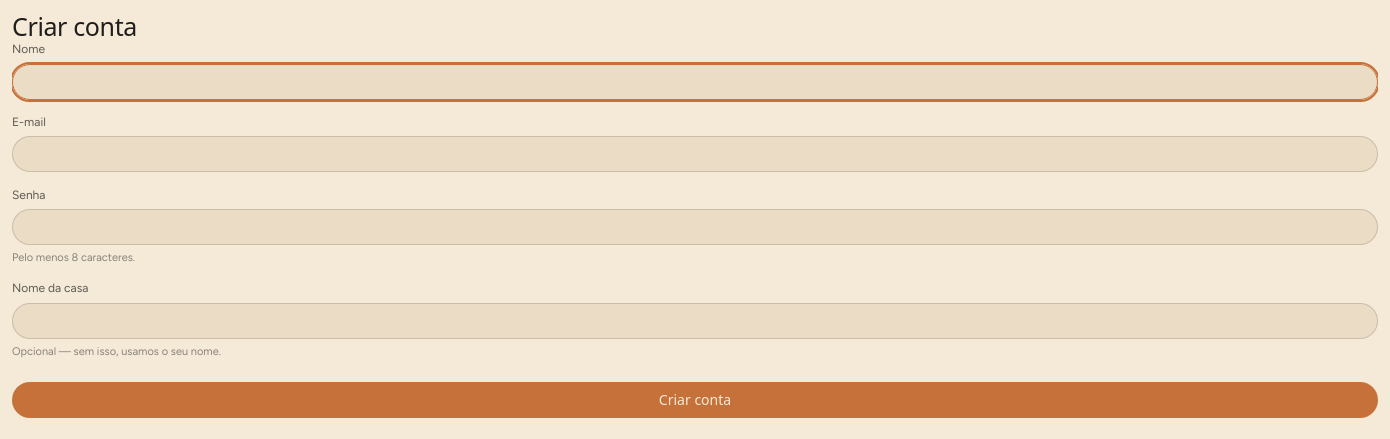
cadastro › não envia nada com senha curta demais e aponta o campo
This screenshot has width=1390, height=439.
Type "Ana" into the field labelled "Nome". click: coordinates (695, 82)
box: x1=12 y1=64 x2=1378 y2=100
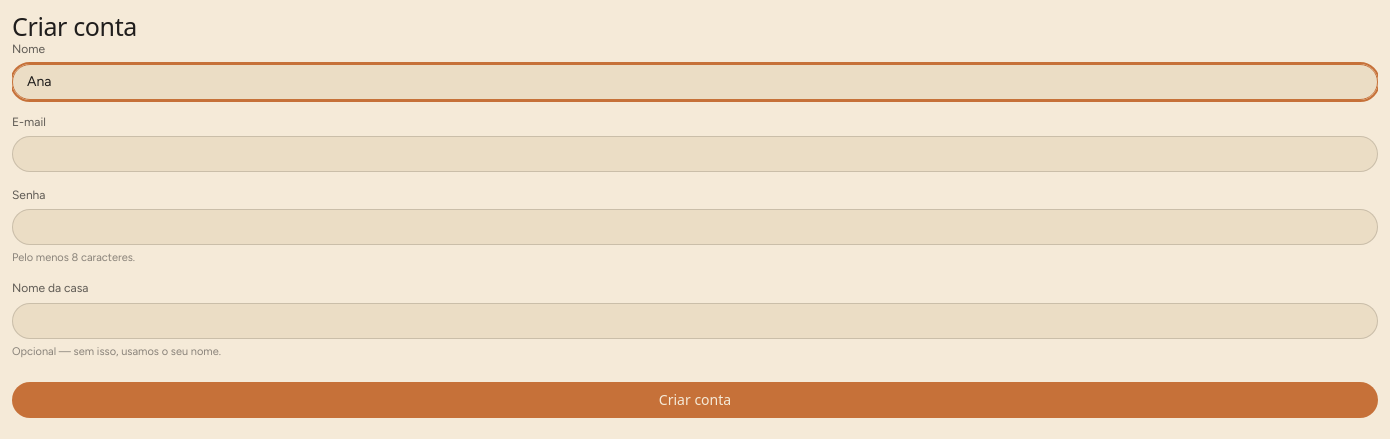
Type "ana@raiz.app" into the field labelled "E-mail". click: coordinates (695, 154)
box: x1=12 y1=136 x2=1378 y2=172
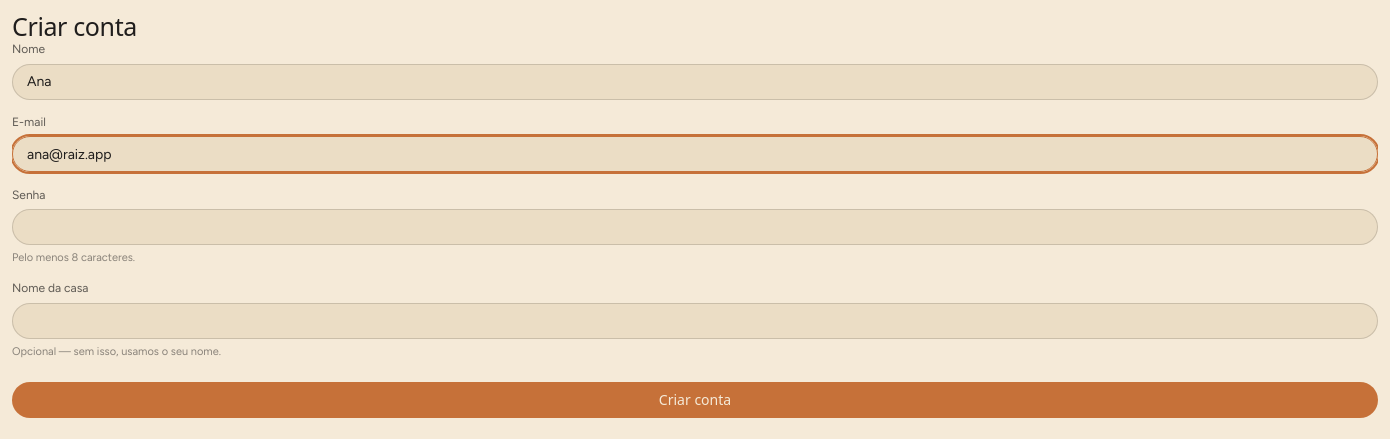
Type "curta" into the password field labelled "Senha". click: coordinates (695, 227)
box: x1=12 y1=209 x2=1378 y2=245
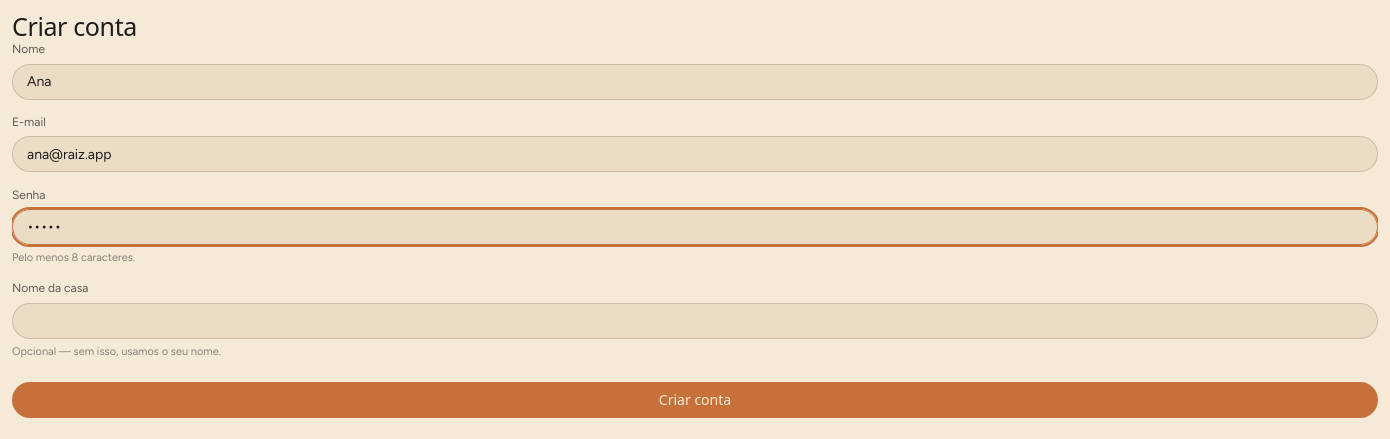
Click the button "Criar conta". click: coordinates (695, 400)
box: x1=12 y1=382 x2=1378 y2=418
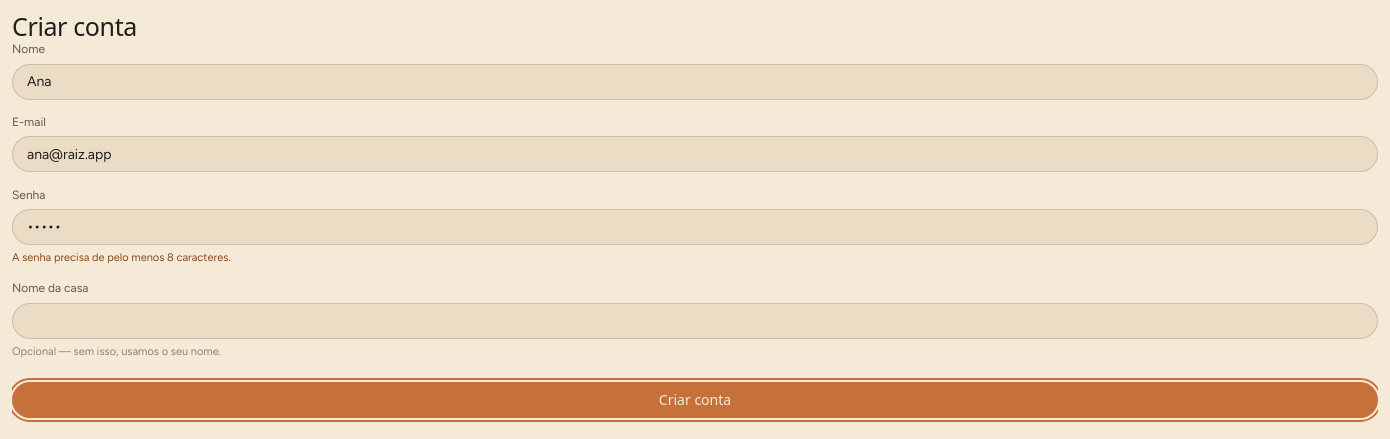
Result: the text "A senha precisa de pelo menos 8 caracteres." is shown at x1=12 y1=251 x2=231 y2=264
